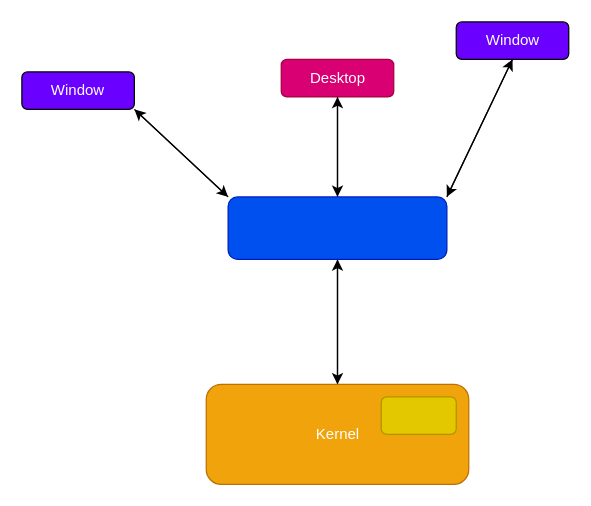
Image size: 591x506. Some labels were removed from this diagram. Each missing label, with the centre of its shape:
"DRM" goes at (x=418, y=415).
"Exodus Compositor" goes at (x=337, y=227).
